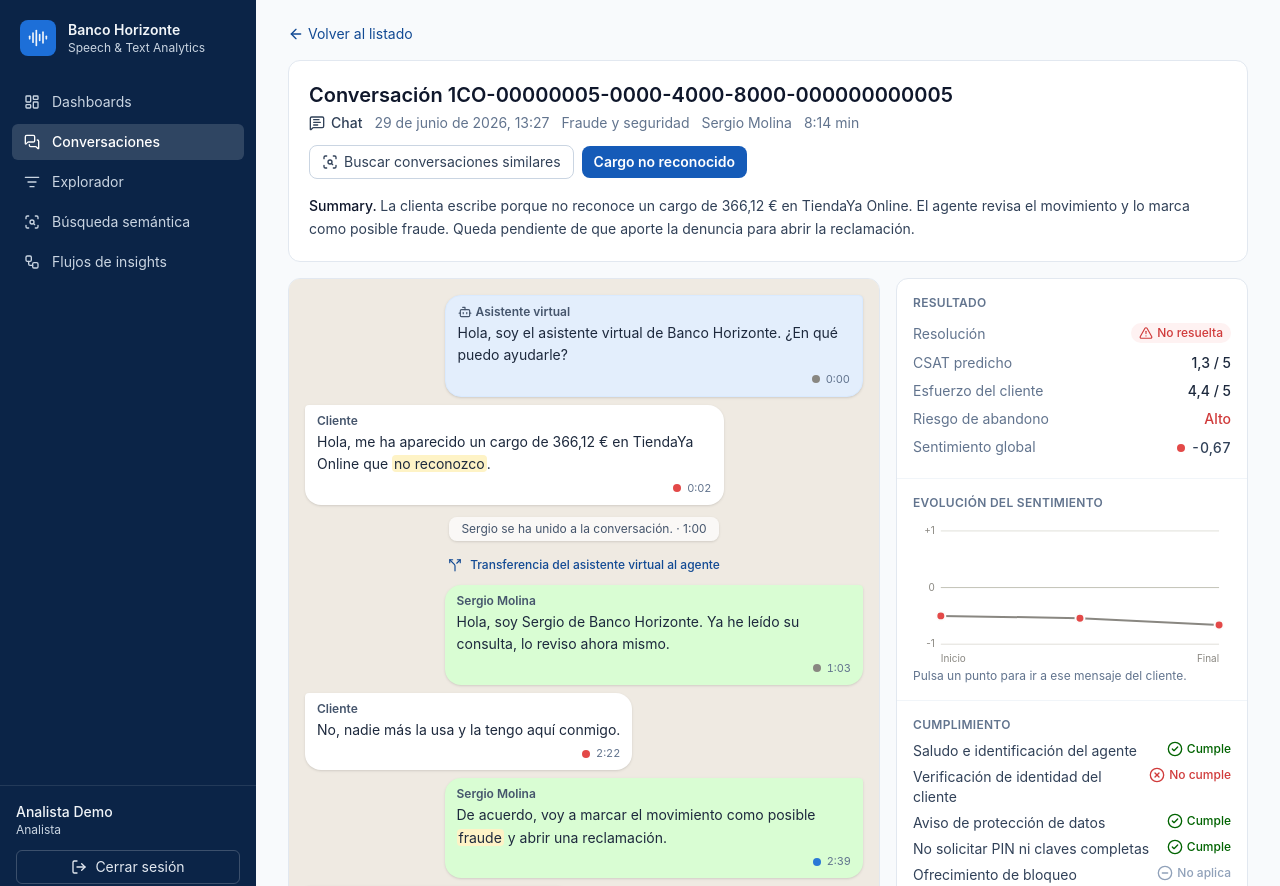
it: conversaciones similares › el botón aparece con el permiso de búsqueda y abre las 10 más cercanas
Expected: the heading "Conversación 1CO-00000005-0000-4000-8000-000000000005" is shown, [309,81,953,109]
Click the link "Buscar conversaciones similares".
click(441, 162)  # box [309,145,574,179]
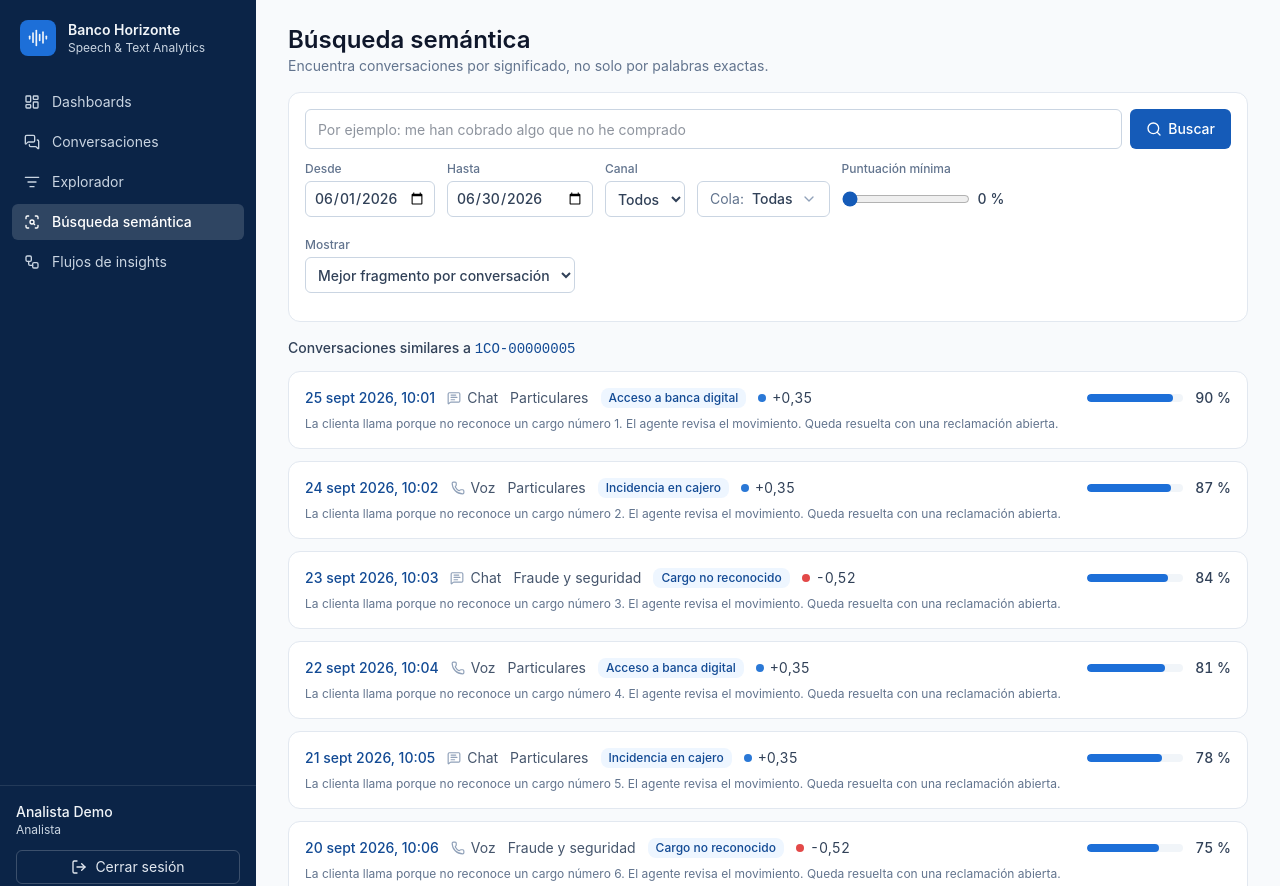
Expected: the text "90 %" is shown, [1191,388,1231,408]
